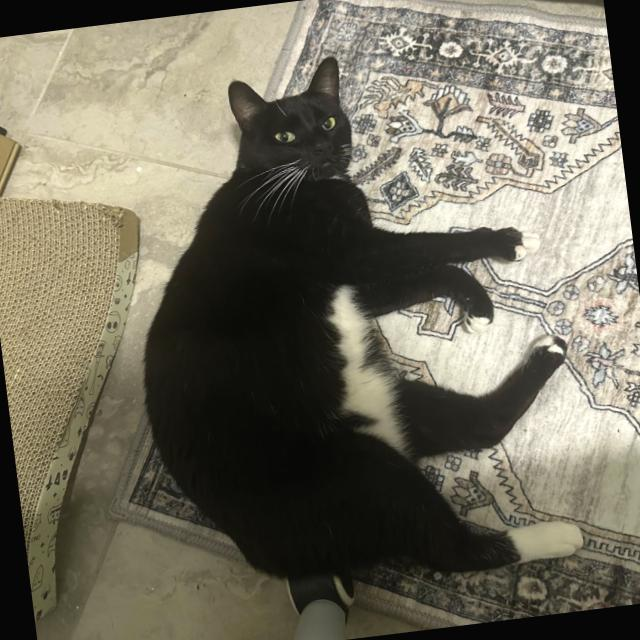manx_cat: (200, 39, 376, 220)
